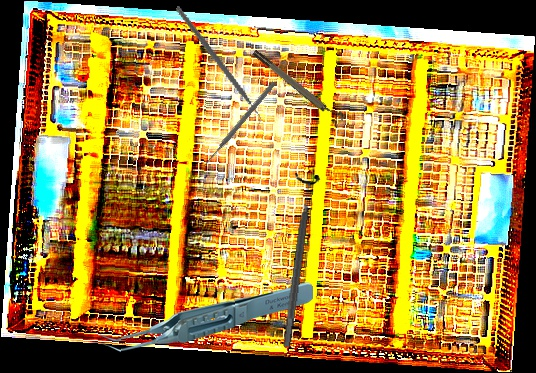Chopper: (146, 5, 289, 130)
Fixation Ring: (272, 172, 322, 349), (250, 44, 347, 128)
Pusher: (200, 80, 278, 169)
Tissue Forceps: (99, 280, 314, 352)
